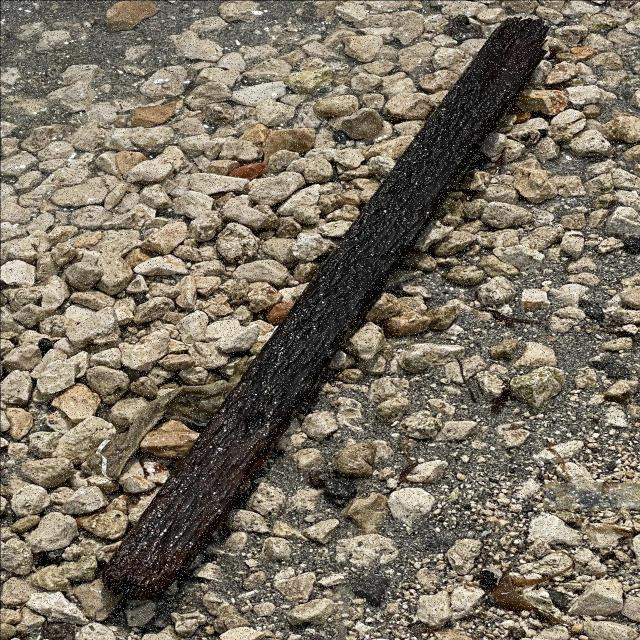wood_waste: (98, 12, 556, 603)
